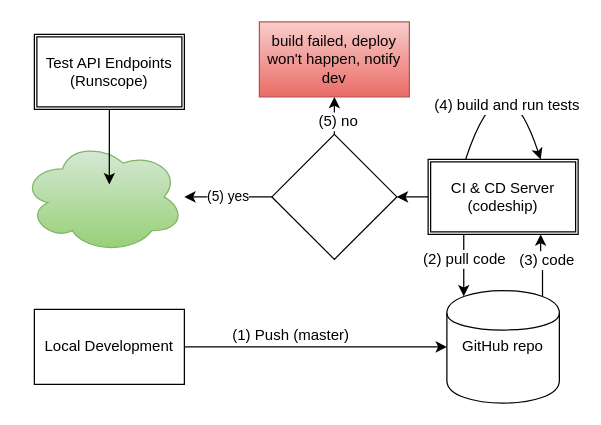
Some shapes in this 601 by 425 pixel diagram are drawn without their labels. The shapes that lost their labels are listed below. From the top down, each one's box as (x1, y1, x2, y2) in pixels, then its label:
(21, 139, 184, 253): deploy to production
(271, 133, 397, 259): build passed?
